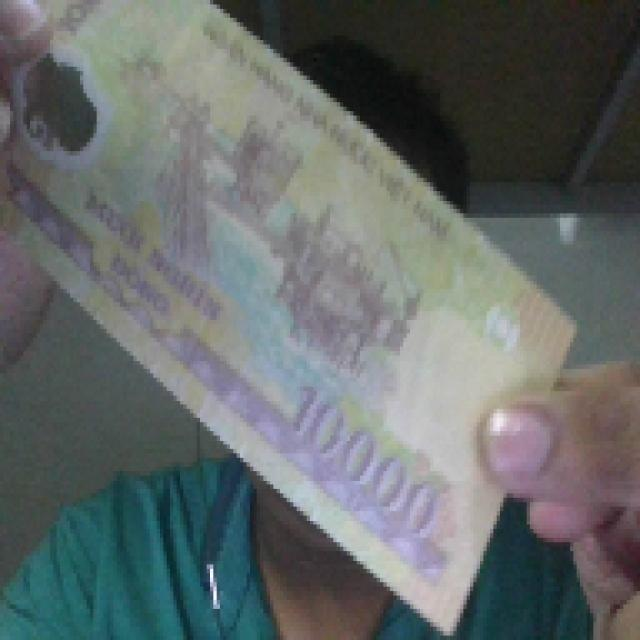10 000 VND: (0, 0, 580, 636)
